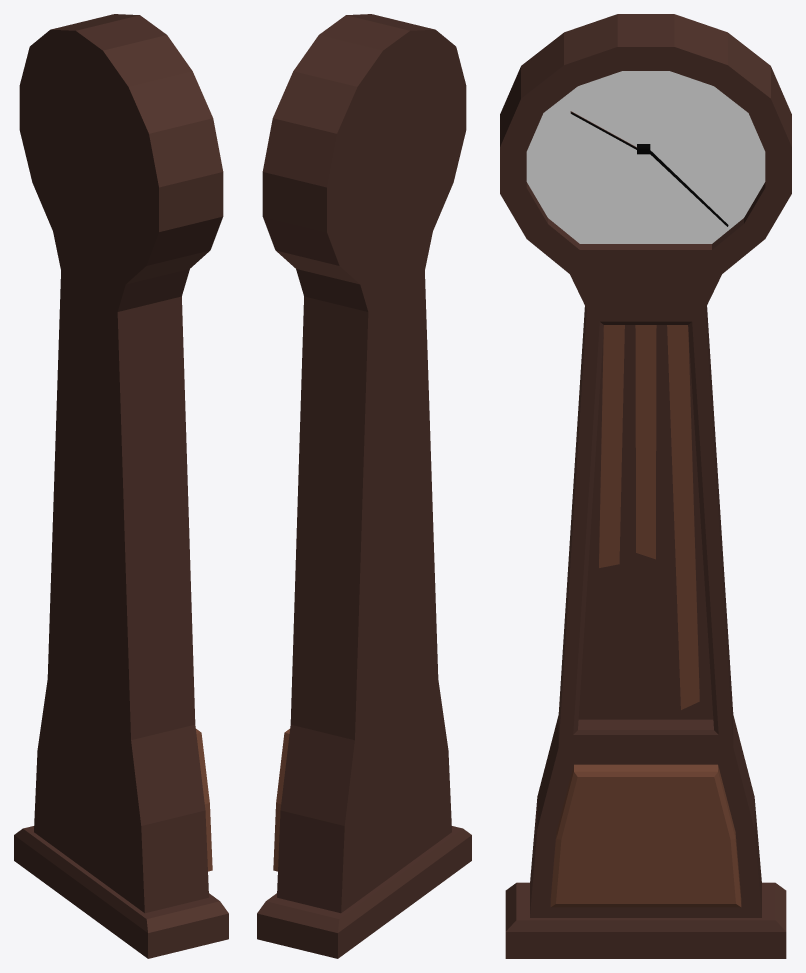
The model's file is clock.fbx.
3 views of the same model, side by side, from view 1: azimuth 30°, elevation 25°; view 2: azimuth 150°, elevation 25°; view 3: azimuth 270°, elevation 25° (orthographic). The views are drawn at different scales.
Parts seen in each view (by area): view 1: clock; view 2: clock; view 3: clock.
Part boxes in pixels (bbox=[...]): clock: bbox=[14, 14, 228, 958]; clock: bbox=[257, 14, 471, 958]; clock: bbox=[500, 14, 791, 958].
Bounding box in the file's own units: 113 × 1064 × 310.
